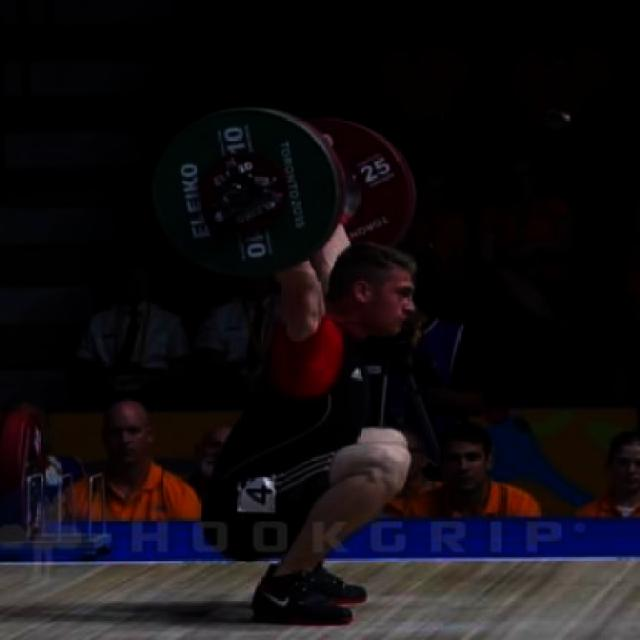barbell: (149, 104, 342, 284)
